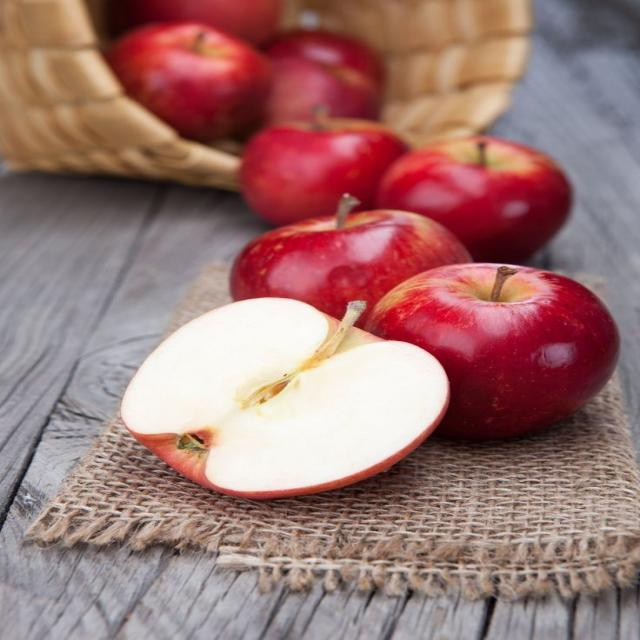apple: (121, 298, 448, 498), (366, 264, 619, 439), (231, 196, 470, 316), (378, 137, 571, 262), (107, 23, 271, 142), (240, 110, 406, 225), (267, 58, 381, 125), (112, 0, 282, 44), (266, 29, 385, 86)
